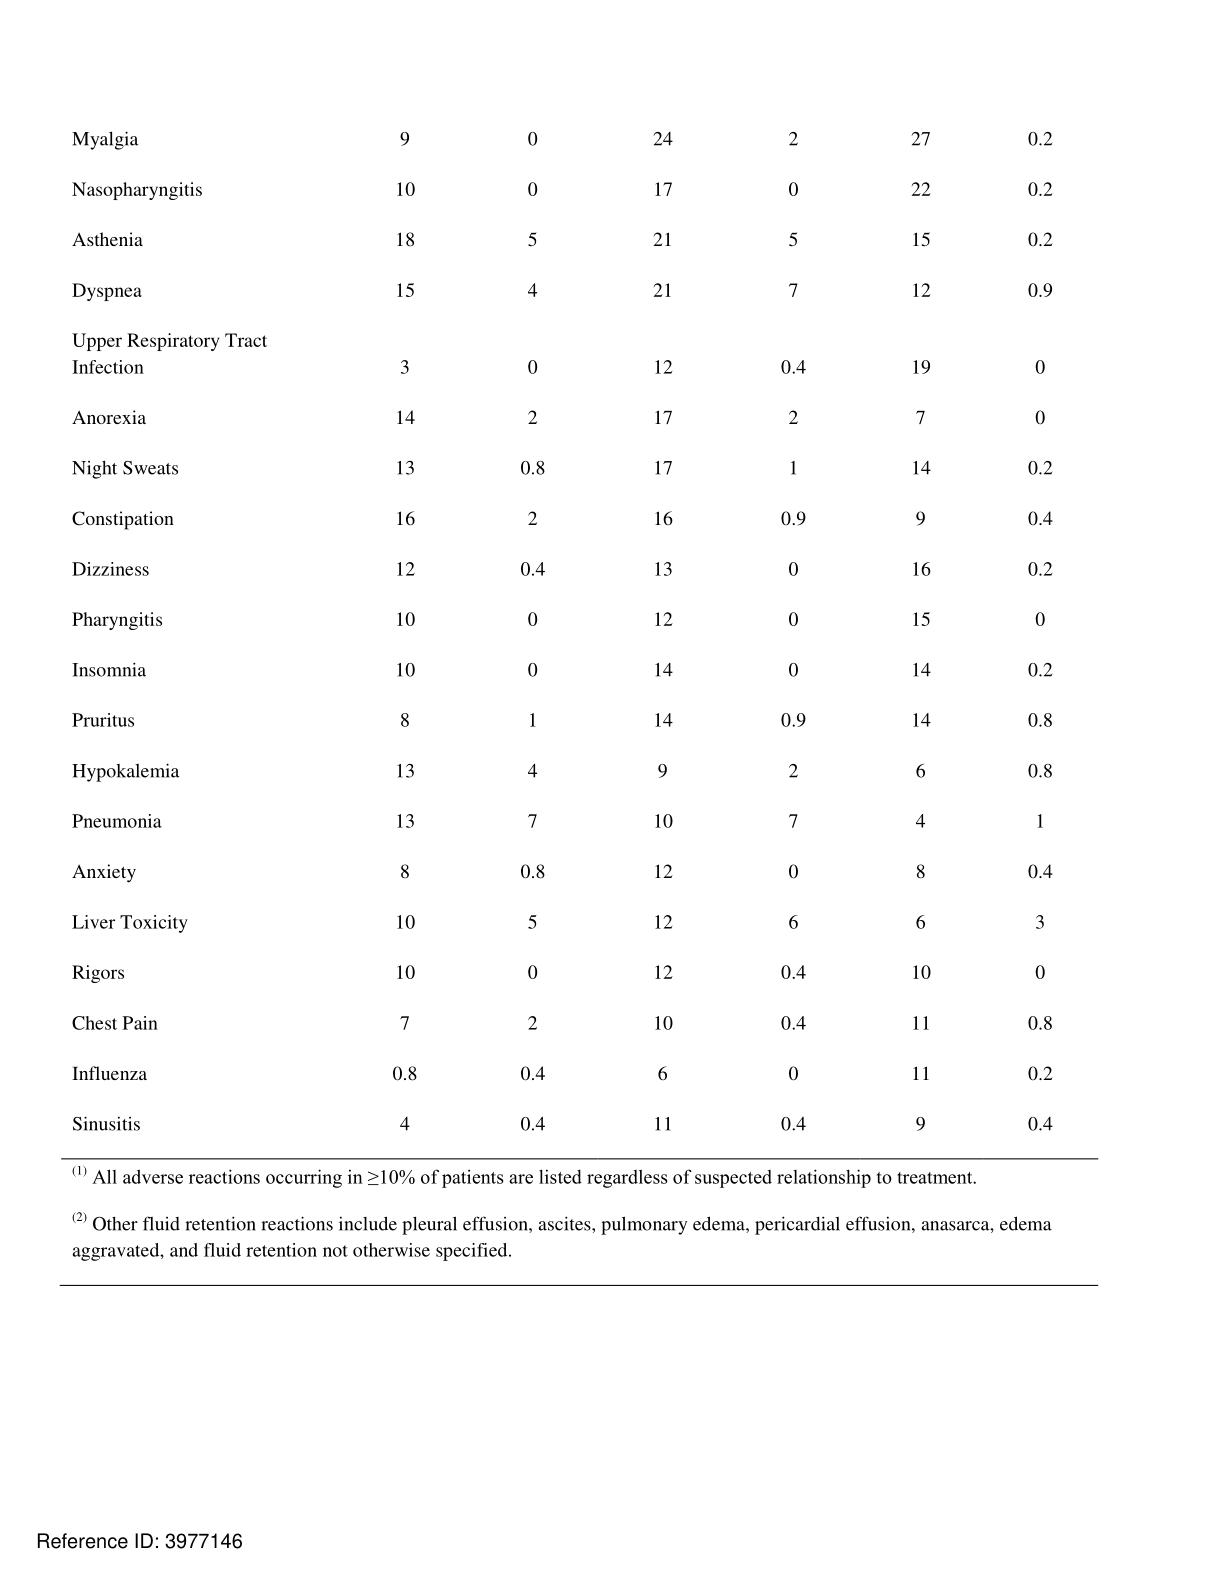nolines: (67, 118, 1065, 1139)
